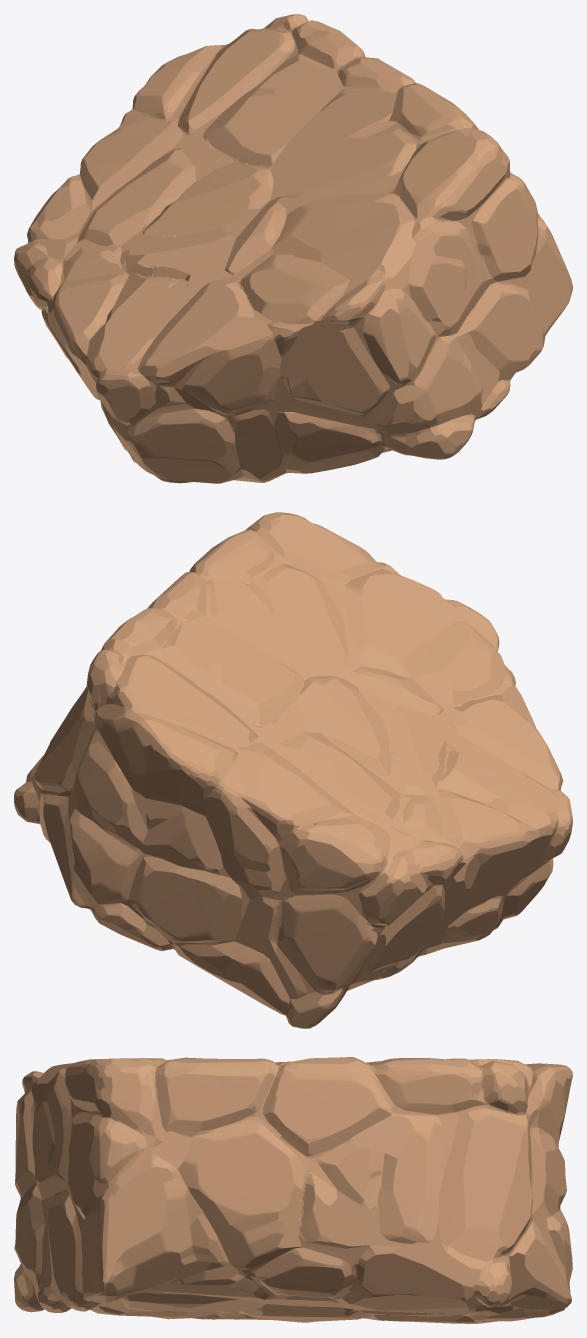
The picture shows the model from 3 angles, top to bottom: view 1: azimuth 30°, elevation 25°; view 2: azimuth 150°, elevation 25°; view 3: azimuth 270°, elevation 25°; orthographic projection. The views are drawn at different scales.
Parts seen in each view (by area): view 1: Mesh_37_LOD0; view 2: Mesh_37_LOD0; view 3: Mesh_37_LOD0.
Boxes of the visible parts, bbox=[...] form: Mesh_37_LOD0: bbox=[14, 14, 572, 483]; Mesh_37_LOD0: bbox=[14, 512, 572, 1028]; Mesh_37_LOD0: bbox=[14, 1057, 572, 1323].
Size of what is drawn, in the model's own units: 4389 by 3372 by 4681.
